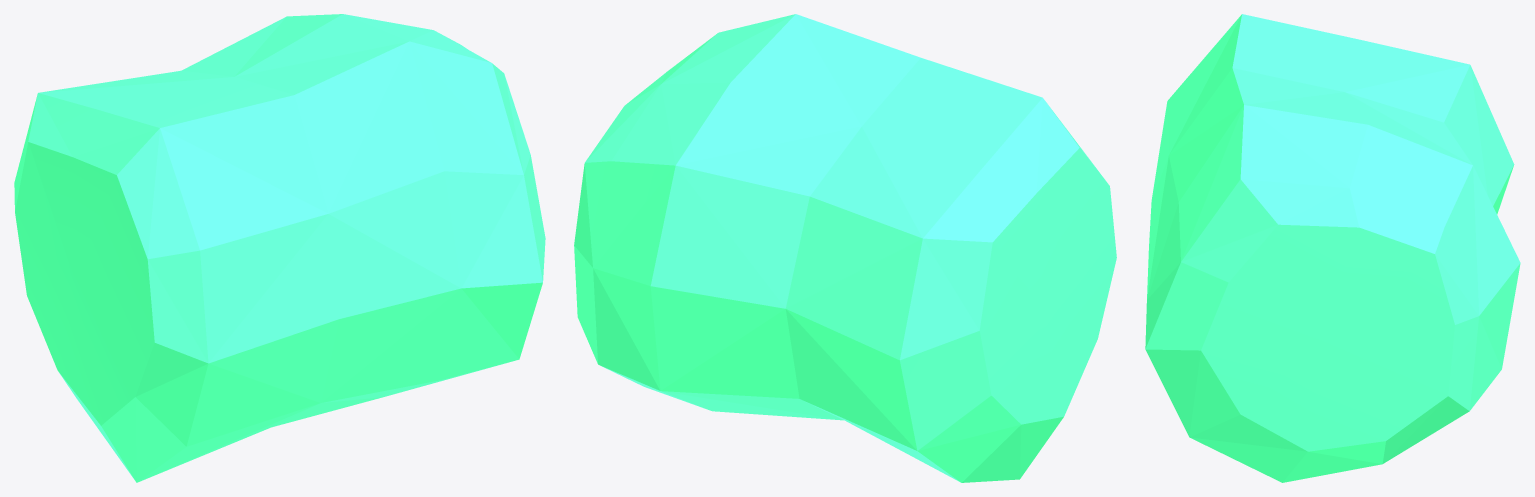
The model's file is ring_crystal_segment.glb.
3 renders of one model, left to right at view 1: azimuth 30°, elevation 25°; view 2: azimuth 150°, elevation 25°; view 3: azimuth 270°, elevation 25°, orthographic. The views are drawn at different scales.
Visible parts, largest first — view 1: RingCrystalSegment; view 2: RingCrystalSegment; view 3: RingCrystalSegment.
Part boxes in pixels (x1,y1,x2,y2): RingCrystalSegment: (14,14,545,482); RingCrystalSegment: (574,14,1116,482); RingCrystalSegment: (1145,14,1520,482).
Size of the model in its own units: 1.01 by 0.9387 by 0.861.
